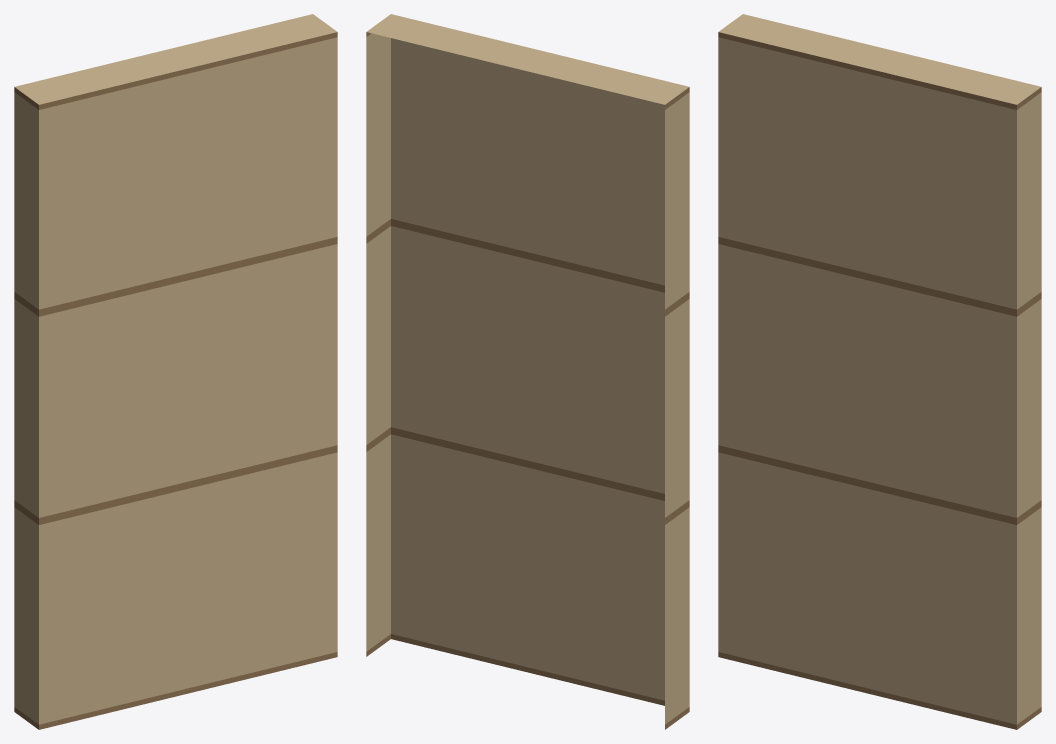
Rendered from M_WallTile175-1Biege80.FBX.
The picture shows the model from 3 angles, left to right: view 1: azimuth 30°, elevation 25°; view 2: azimuth 150°, elevation 25°; view 3: azimuth 330°, elevation 25°; orthographic projection.
Visible parts, largest first — view 1: M_WallTile175-1Biege80; view 2: M_WallTile175-1Biege80; view 3: M_WallTile175-1Biege80.
Part boxes in pixels (x1,y1,x2,y2): M_WallTile175-1Biege80: (14, 14, 337, 729); M_WallTile175-1Biege80: (366, 14, 689, 729); M_WallTile175-1Biege80: (718, 14, 1041, 729).
Bounding box in the file's own units: 1.75 × 3.5 × 0.25.
